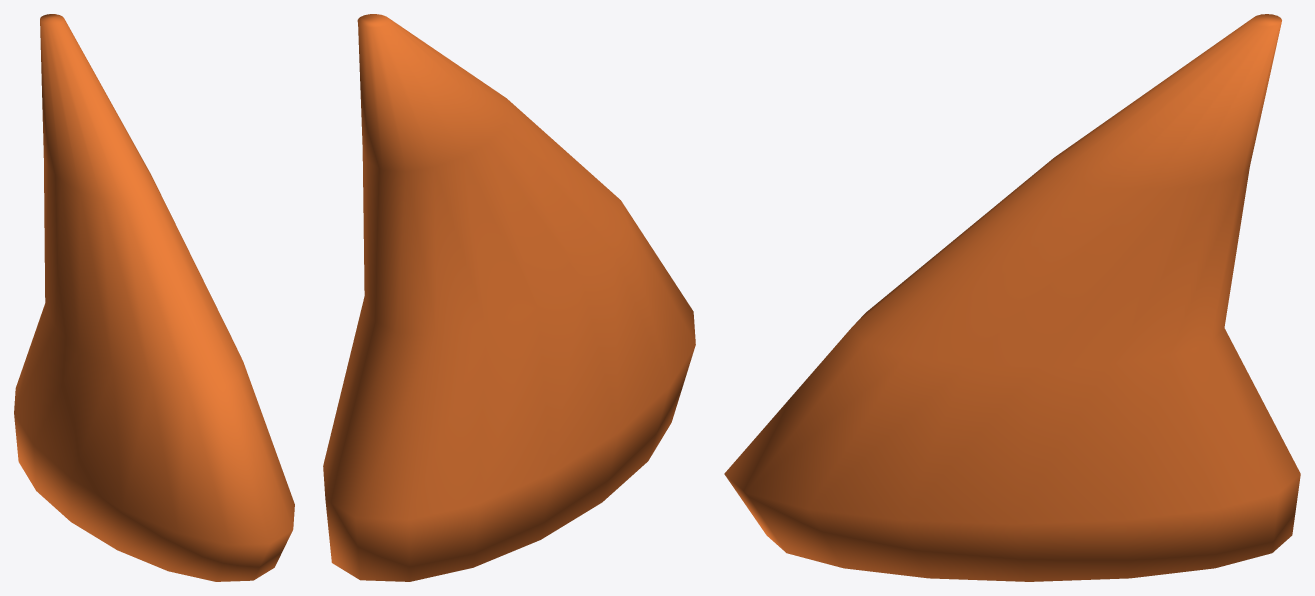
File: ACC_TH_OCEAN_Primary.fbx
3 views of the same model, side by side, from view 1: azimuth 30°, elevation 25°; view 2: azimuth 150°, elevation 25°; view 3: azimuth 270°, elevation 25° (orthographic). The views are drawn at different scales.
Parts seen in each view (by area): view 1: ACC_TH_OCEAN_Primary; view 2: ACC_TH_OCEAN_Primary; view 3: ACC_TH_OCEAN_Primary.
Part boxes in pixels (x1=…): ACC_TH_OCEAN_Primary: x1=14, y1=14, x2=294, y2=581; ACC_TH_OCEAN_Primary: x1=323, y1=14, x2=695, y2=581; ACC_TH_OCEAN_Primary: x1=724, y1=14, x2=1300, y2=581.
Bounding box in the file's own units: 28 × 67 × 68.
